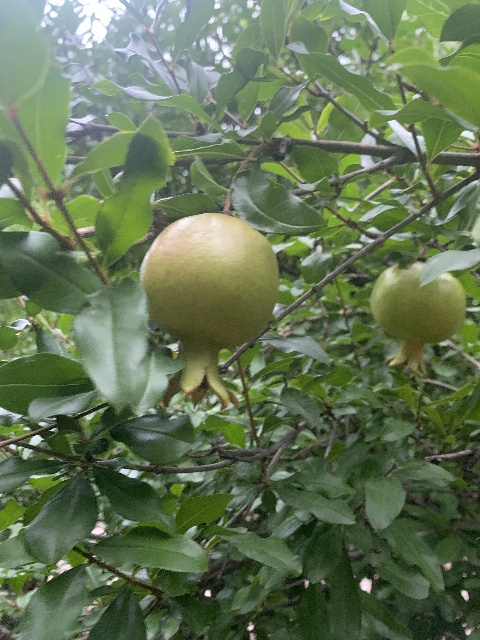mid-growth: (141, 211, 280, 411), (369, 260, 467, 376)
